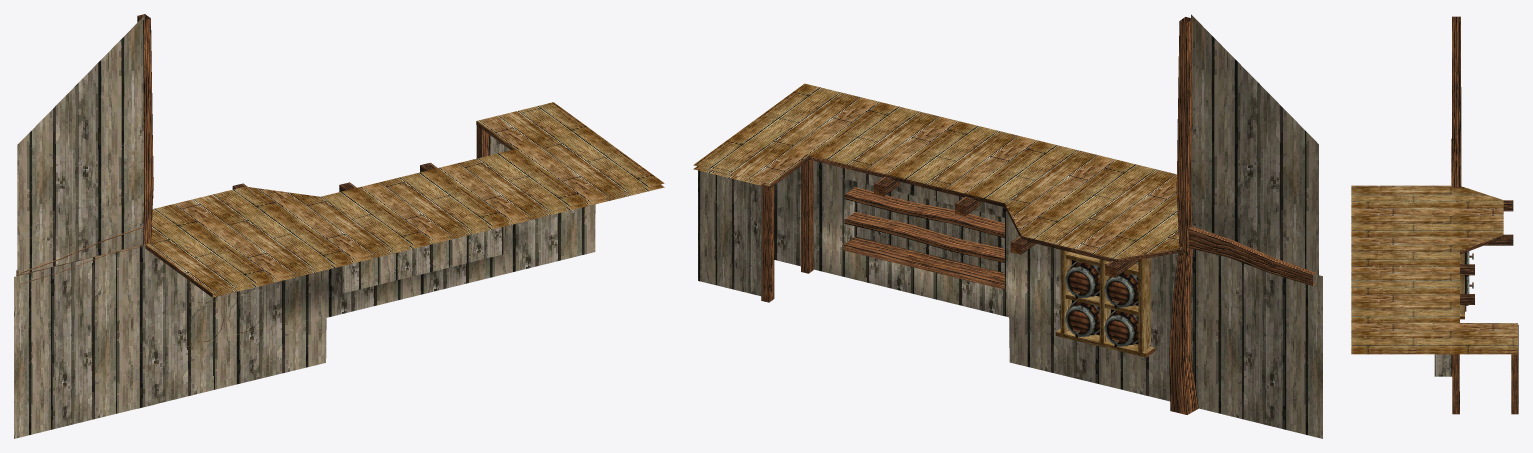
The model's file is LAKETOWN_PUB_PS_PUB_BACKBAR857__GX.fbx.
3 renders of one model, left to right at view 1: azimuth 30°, elevation 25°; view 2: azimuth 150°, elevation 25°; view 3: azimuth 270°, elevation 25°, orthographic. The views are drawn at different scales.
Visible parts, largest first — view 1: LAKETOWN_PUB_PS_PUB_BACKBAR857__GX; view 2: LAKETOWN_PUB_PS_PUB_BACKBAR857__GX; view 3: LAKETOWN_PUB_PS_PUB_BACKBAR857__GX.
Boxes of the visible parts, x1,y1,x2,y2 form: LAKETOWN_PUB_PS_PUB_BACKBAR857__GX: (14,14,664,438); LAKETOWN_PUB_PS_PUB_BACKBAR857__GX: (693,14,1322,438); LAKETOWN_PUB_PS_PUB_BACKBAR857__GX: (1351,16,1518,414).
Size of the model in its own units: 110540 by 70889 by 36689.
11 materials, 11 textured.
